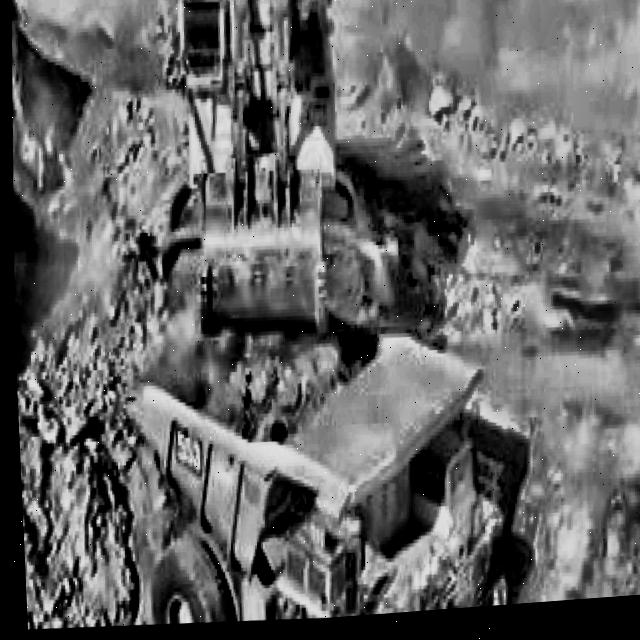dump_truck: (135, 351, 519, 633)
excavator: (147, 0, 355, 332)
